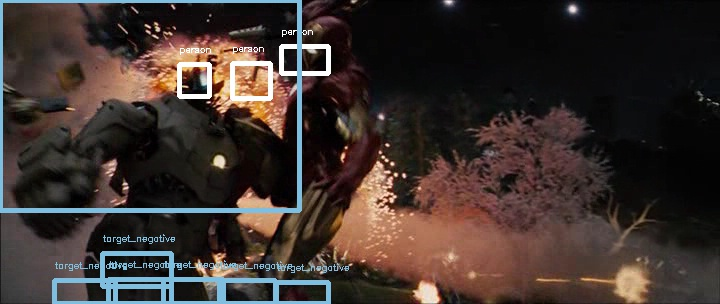person: (306, 19, 348, 67), (305, 19, 347, 67), (307, 19, 349, 67), (306, 18, 348, 66), (306, 20, 348, 68)
target_negative: (105, 33, 464, 252), (179, 47, 679, 103), (48, 132, 468, 172), (106, 77, 448, 84), (110, 72, 127, 160), (537, 269, 553, 290)
